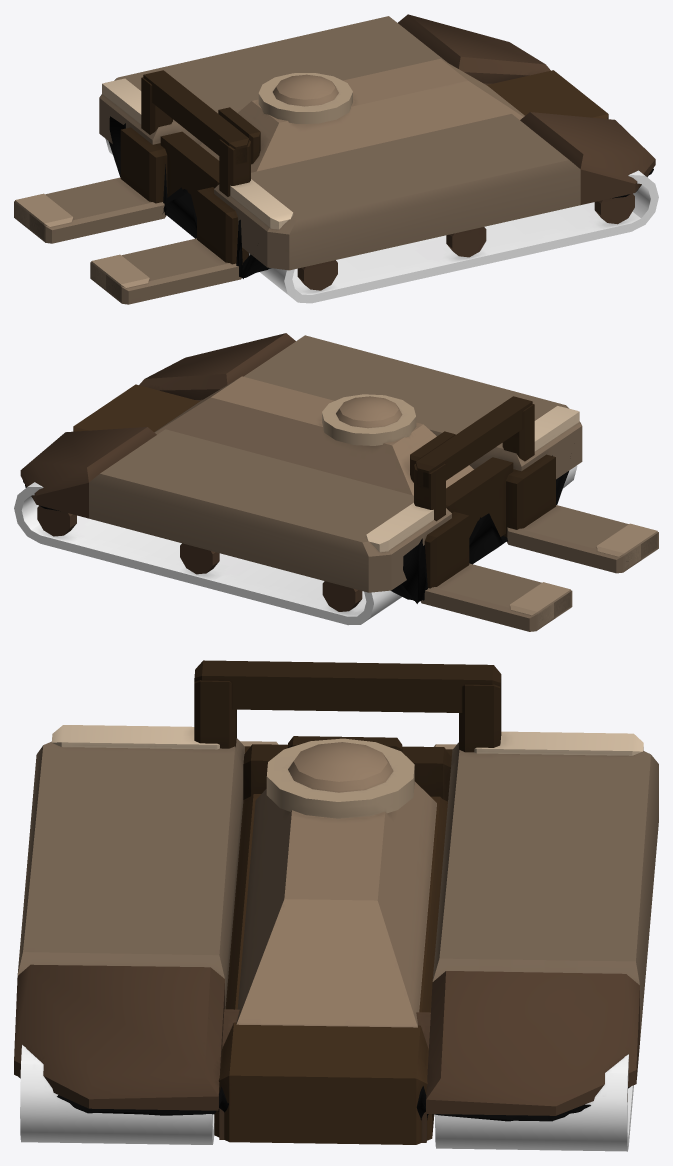
The model's file is newsh3-14-f7.glb.
3 renders of one model, top to bottom at view 1: azimuth 30°, elevation 25°; view 2: azimuth 150°, elevation 25°; view 3: azimuth 270°, elevation 25°, orthographic. The views are drawn at different scales.
Parts seen in each view (by area): view 1: newsh3-14-f7, newsh3-14-f7_outline; view 2: newsh3-14-f7, newsh3-14-f7_outline; view 3: newsh3-14-f7, newsh3-14-f7_outline.
Boxes of the visible parts, <box> form: newsh3-14-f7: <box>14,14,658,304</box>; newsh3-14-f7_outline: <box>108,116,653,278</box>; newsh3-14-f7: <box>14,333,658,631</box>; newsh3-14-f7_outline: <box>23,455,568,603</box>; newsh3-14-f7: <box>14,660,658,1151</box>; newsh3-14-f7_outline: <box>19,1077,630,1121</box>.
Size of the model in its own units: 1.51 by 0.3708 by 1.03.
Materials: 12 (11 with a texture image).
